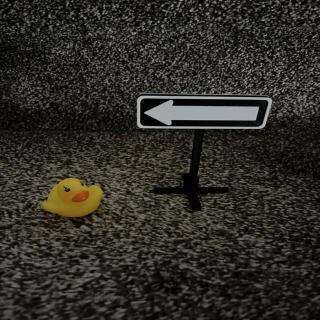duck_regular: (43, 179, 105, 219)
sign_oneway_left: (138, 95, 274, 131)
